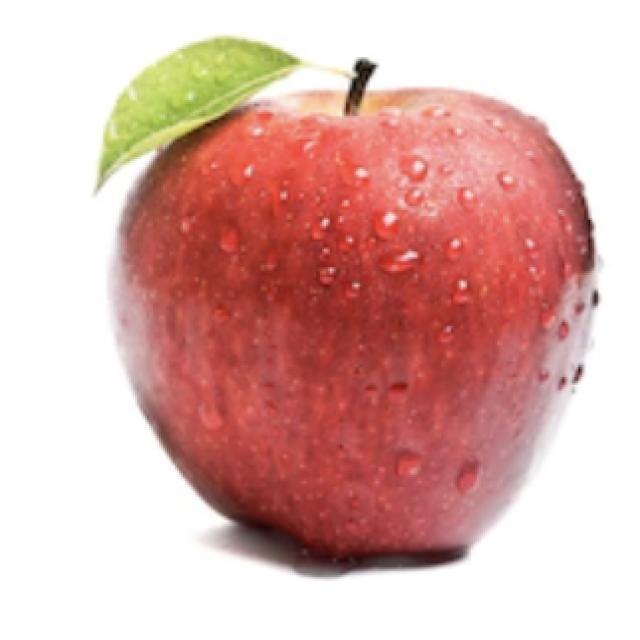Fresh Apple: (135, 82, 588, 555)
